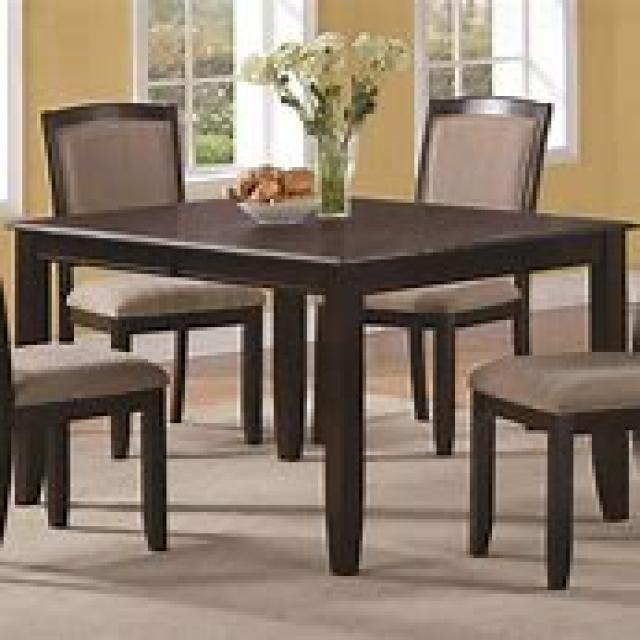chair: (37, 100, 266, 455)
table: (8, 192, 636, 572)
